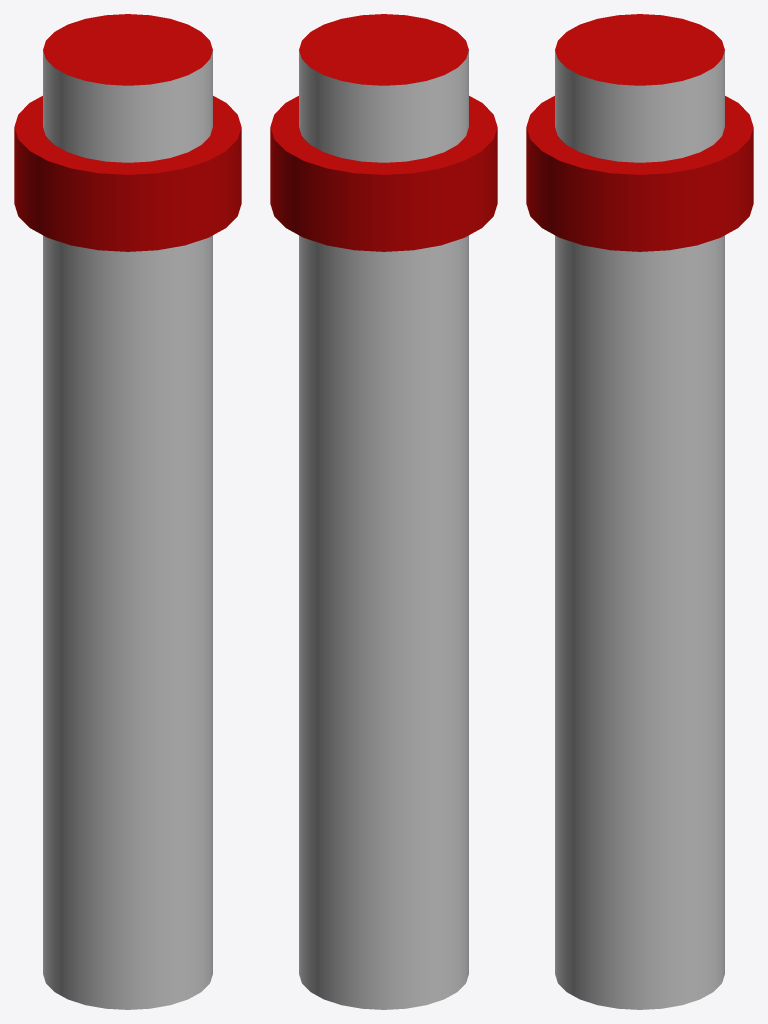
The model's file is sVR_Marker.fbx.
3 views of the same model, side by side, from view 1: azimuth 30°, elevation 25°; view 2: azimuth 150°, elevation 25°; view 3: azimuth 270°, elevation 25° (orthographic).
Visible parts, largest first — view 1: SketchUp, ID11, ID19; view 2: SketchUp, ID11, ID19; view 3: SketchUp, ID11, ID19.
Boxes of the visible parts, x1,y1,x2,y2 form: SketchUp: [43, 50, 212, 1009]; ID11: [14, 96, 241, 251]; ID19: [43, 14, 212, 85]; SketchUp: [299, 50, 468, 1009]; ID11: [270, 96, 497, 251]; ID19: [299, 14, 468, 85]; SketchUp: [555, 50, 724, 1009]; ID11: [526, 96, 753, 251]; ID19: [555, 14, 724, 85].
Size of the model in its own units: 0.1053 by 0.1053 by 0.4724.
